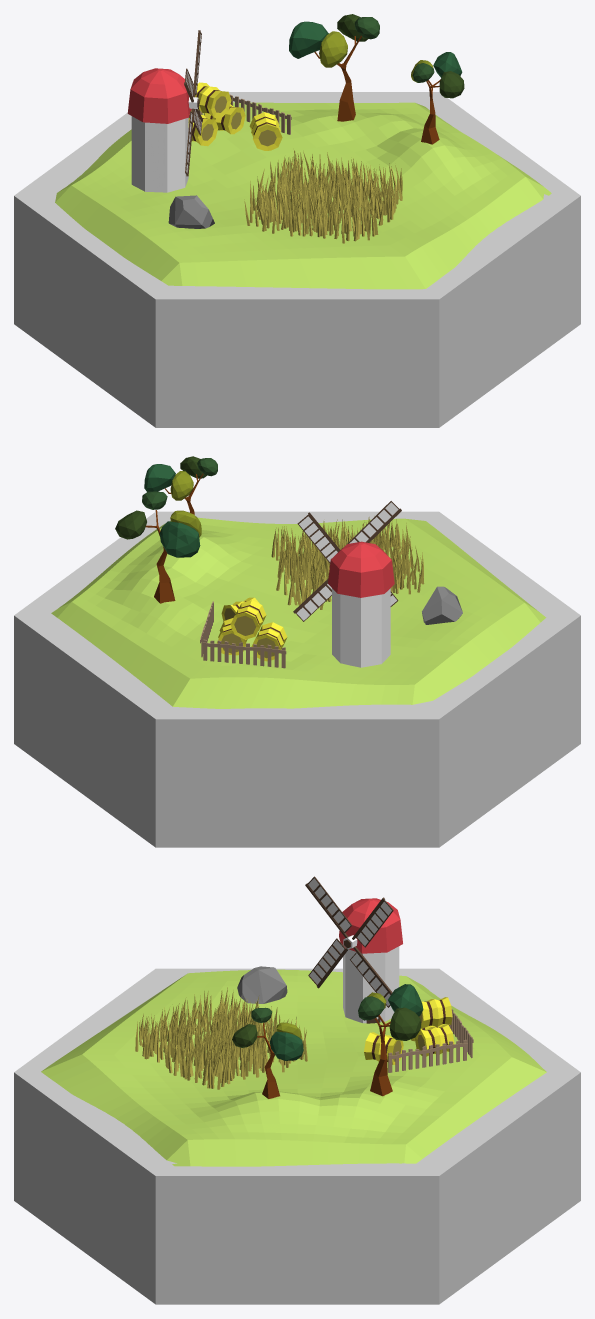
The model's file is Farm.fbx.
3 views of the same model, one above another, from view 1: azimuth 30°, elevation 25°; view 2: azimuth 150°, elevation 25°; view 3: azimuth 270°, elevation 25° (orthographic).
Parts seen in each view (by area): view 1: Base, Crop, Mill, Tree.004, Tree.005, Rock1.002, Bale 3, Bale 4, Fence.002, Bale 2, Bale 1; view 2: Base, Crop, Mill, Tree.004, Tree.005, Fence.002, Rock1.002, Bale 4, Bale 1, Bale 2; view 3: Base, Crop, Mill, Tree.004, Tree.005, Fence.002, Rock1.002, Bale 4, Bale 3, Bale 2.
Part boxes in pixels (bbox=[...]): Base: bbox=[14, 92, 580, 427]; Crop: bbox=[55, 102, 551, 289]; Mill: bbox=[127, 30, 202, 192]; Tree.004: bbox=[289, 14, 379, 121]; Tree.005: bbox=[411, 52, 464, 144]; Rock1.002: bbox=[168, 195, 214, 228]; Bale 3: bbox=[249, 112, 282, 150]; Bale 4: bbox=[195, 82, 231, 118]; Fence.002: bbox=[191, 94, 291, 134]; Bale 2: bbox=[204, 104, 245, 134]; Bale 1: bbox=[188, 111, 218, 146]; Base: bbox=[14, 511, 580, 847]; Crop: bbox=[51, 517, 546, 708]; Mill: bbox=[293, 501, 401, 667]; Tree.004: bbox=[115, 491, 201, 603]; Tree.005: bbox=[144, 456, 217, 514]; Fence.002: bbox=[200, 601, 286, 668]; Rock1.002: bbox=[422, 586, 462, 624]; Bale 4: bbox=[230, 600, 266, 639]; Bale 1: bbox=[251, 622, 287, 661]; Bale 2: bbox=[217, 618, 247, 655]; Base: bbox=[14, 968, 580, 1304]; Crop: bbox=[41, 969, 546, 1166]; Mill: bbox=[305, 876, 402, 1023]; Tree.004: bbox=[358, 984, 423, 1096]; Tree.005: bbox=[232, 1008, 303, 1098]; Fence.002: bbox=[388, 1009, 473, 1072]; Rock1.002: bbox=[237, 966, 287, 1003]; Bale 4: bbox=[419, 997, 452, 1028]; Bale 3: bbox=[364, 1032, 403, 1064]; Bale 2: bbox=[415, 1024, 454, 1056].
Bounding box in the file's own units: 1732 × 1075 × 2000.
